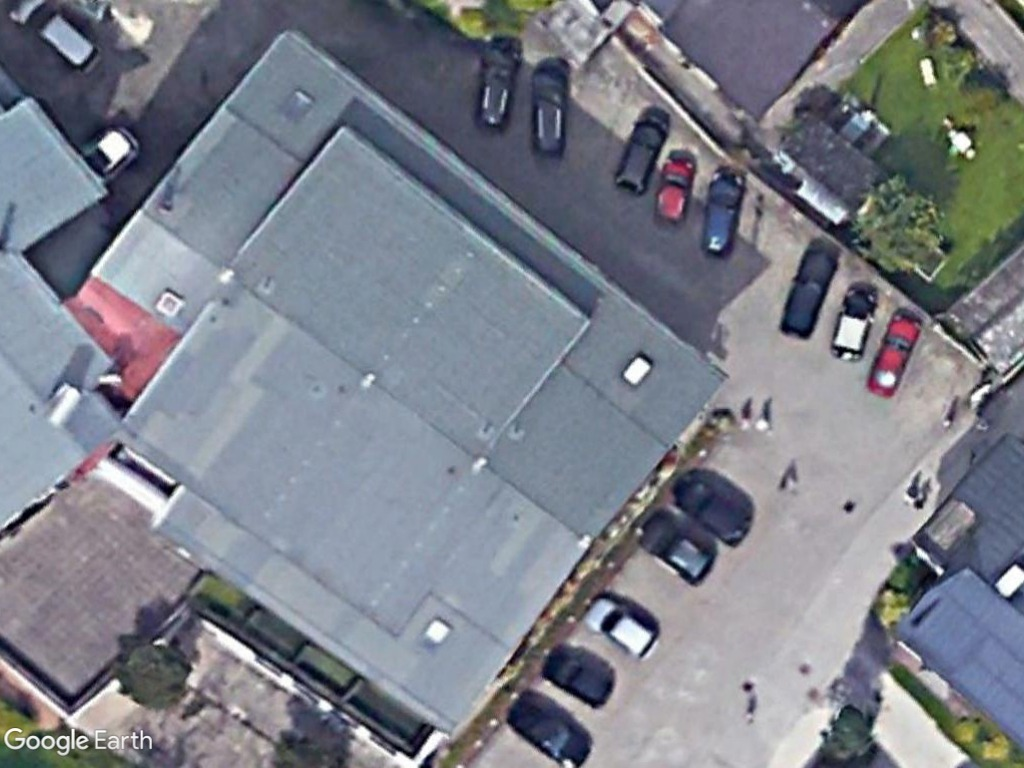car: (502, 689, 600, 768), (666, 470, 758, 548), (575, 589, 664, 667), (632, 509, 718, 589), (860, 305, 929, 404), (778, 243, 844, 341), (465, 30, 525, 137), (522, 52, 577, 164), (536, 640, 620, 711), (607, 109, 673, 198), (695, 163, 749, 264), (650, 147, 699, 233)
